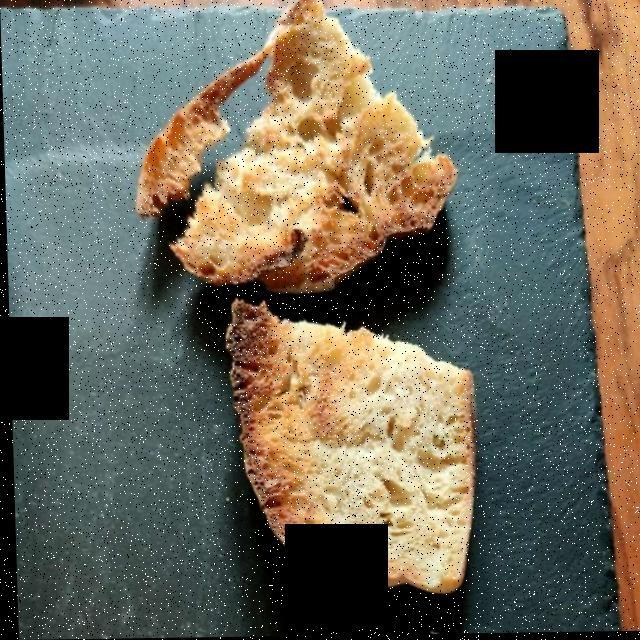bread: (133, 1, 469, 599)
